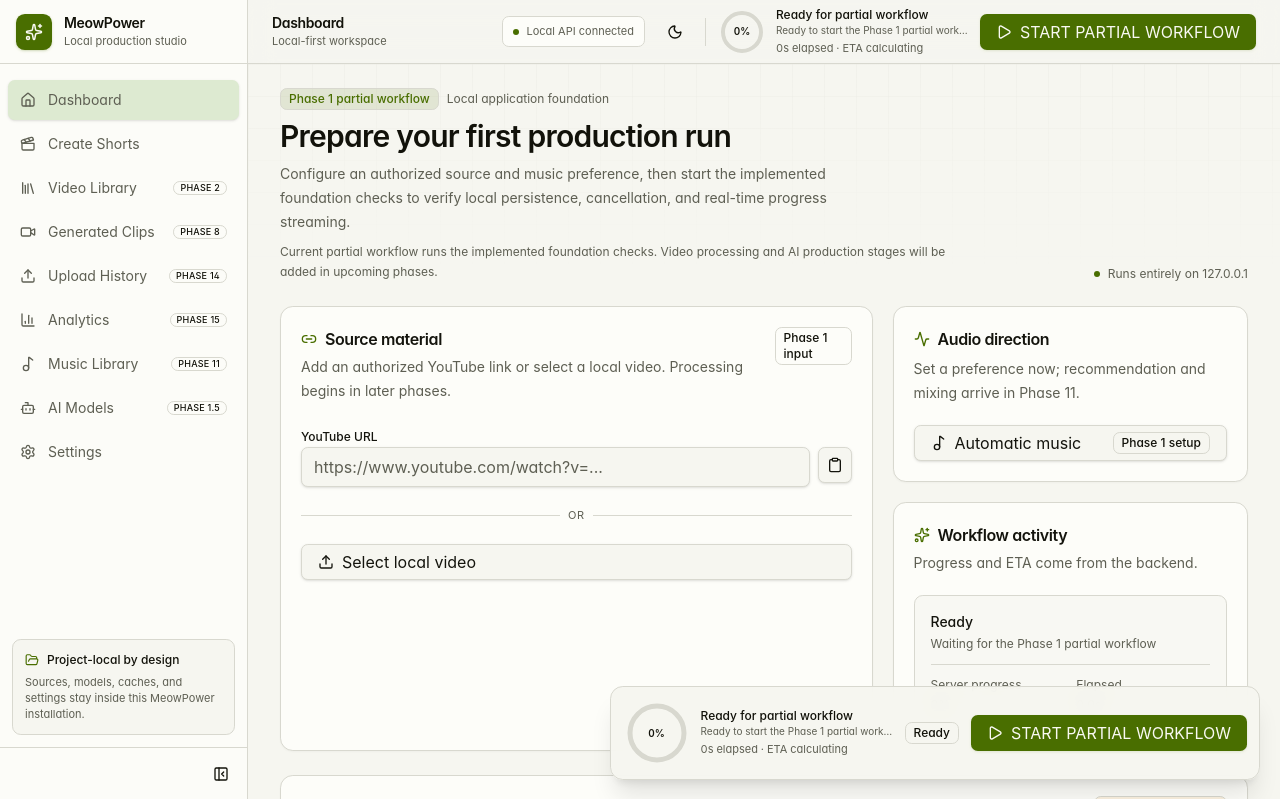
Test: Phase 1.5 provider discovery and credential profiles › shows sanitized discovery failures while manual model entry remains available
Click the link "AI Models Phase 1.5".
click(81, 408)  # box [20,399,227,416]
(page scrolled)
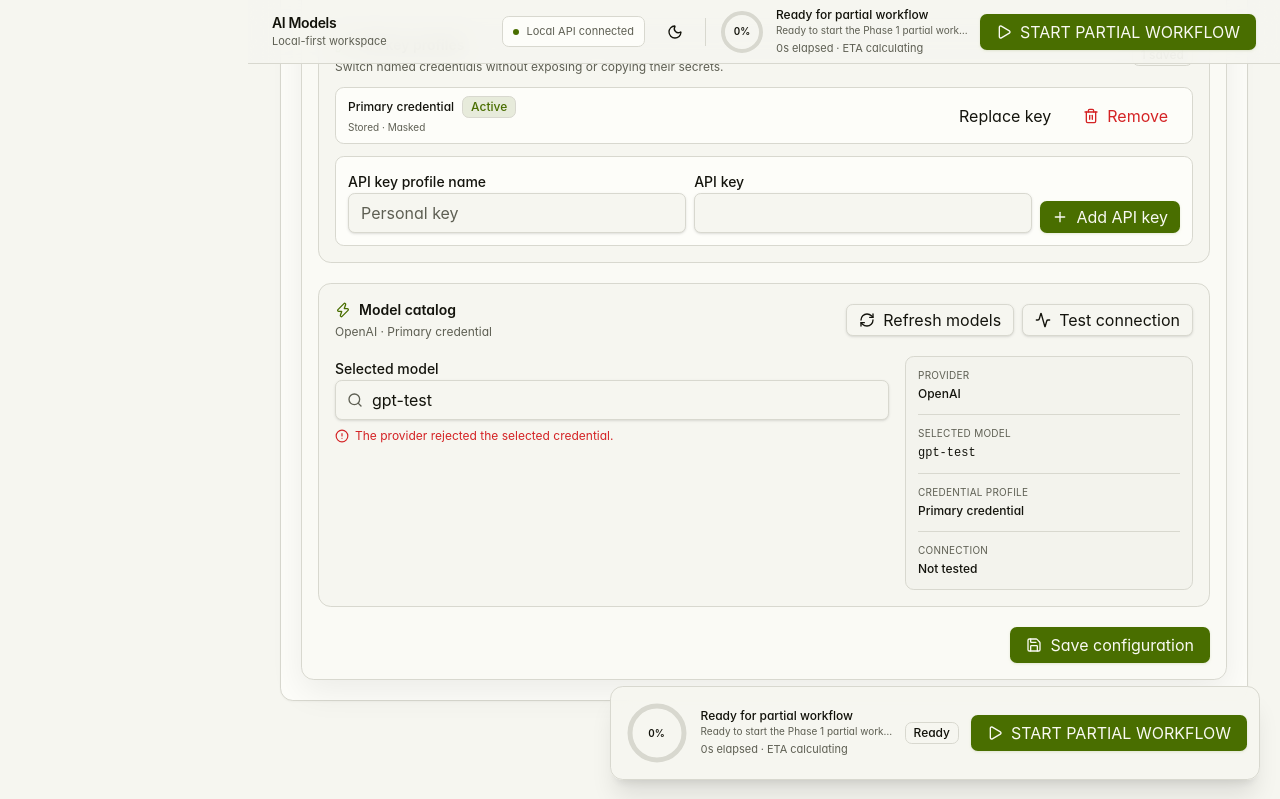
Expected: the text "The provider rejected the selected credential." is shown, [335,428,614,443]
Expected: the dropdown labelled "Selected model" is enabled, [335,380,889,420]
